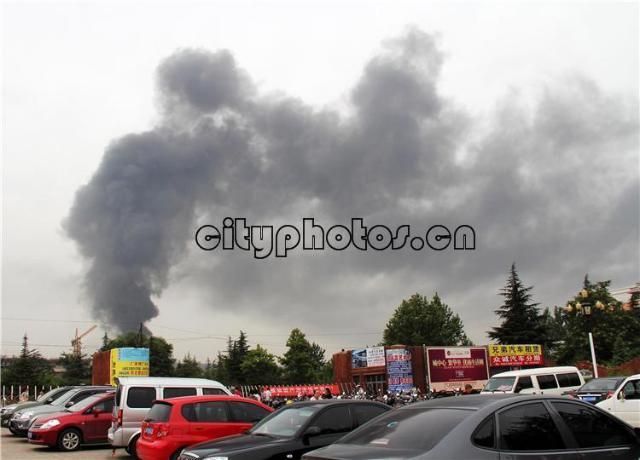smoke: (204, 158, 636, 218), (272, 29, 470, 156), (54, 150, 184, 330), (144, 44, 272, 159), (476, 72, 634, 157), (470, 223, 636, 287)
